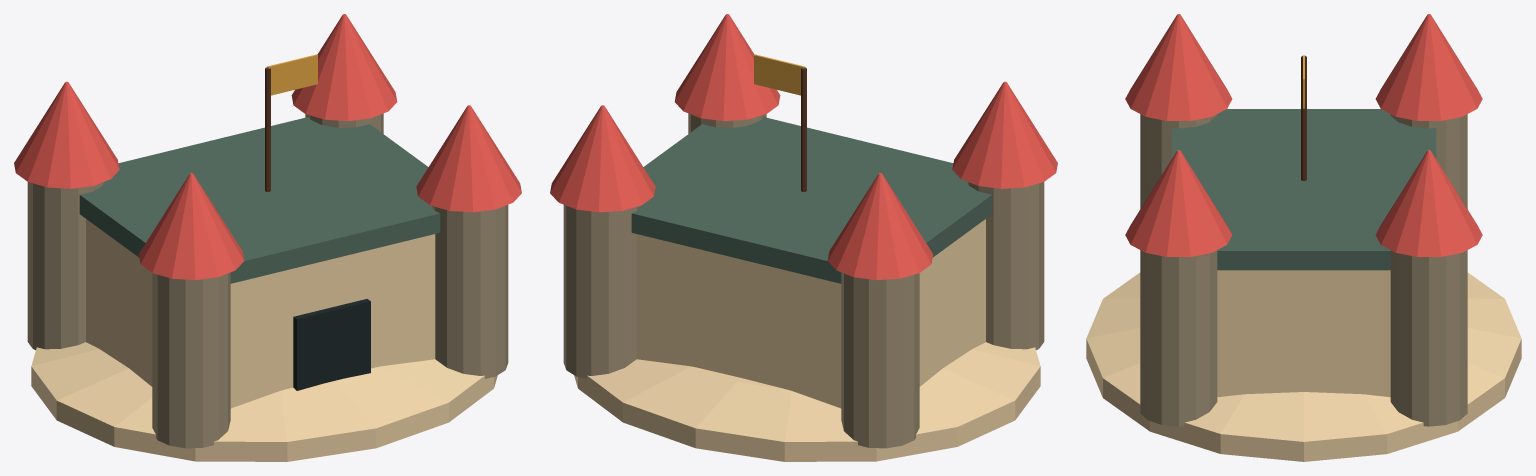
Rendered from ParkParkSkyCastle.obj.
The picture shows the model from 3 angles, left to right: view 1: azimuth 30°, elevation 25°; view 2: azimuth 150°, elevation 25°; view 3: azimuth 270°, elevation 25°; orthographic projection.
Visible parts, largest first — view 1: ParkParkSkyCastle; view 2: ParkParkSkyCastle; view 3: ParkParkSkyCastle.
Boxes of the visible parts, x1,y1,x2,y2 form: ParkParkSkyCastle: [14, 14, 521, 461]; ParkParkSkyCastle: [550, 14, 1057, 461]; ParkParkSkyCastle: [1086, 14, 1521, 461].
Bounding box in the file's own units: 13.7 × 10.05 × 12.17.
